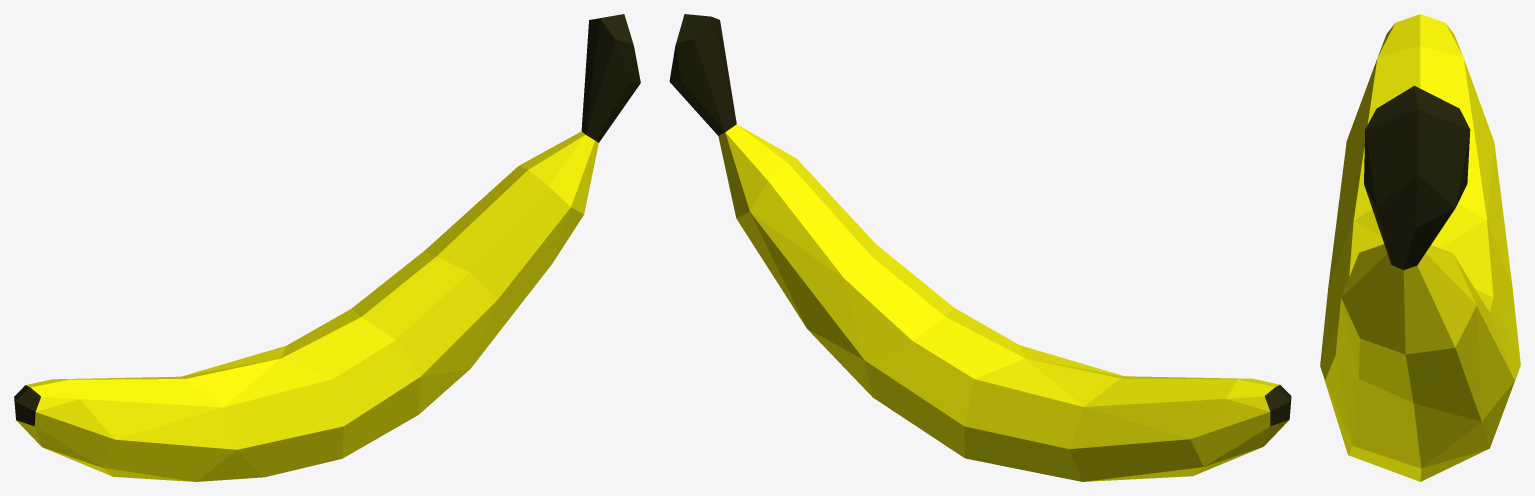
The model's file is foodbanana.glb.
The picture shows the model from 3 angles, left to right: view 1: azimuth 30°, elevation 25°; view 2: azimuth 150°, elevation 25°; view 3: azimuth 270°, elevation 25°; orthographic projection. The views are drawn at different scales.
Parts seen in each view (by area): view 1: Cube.002; view 2: Cube.002; view 3: Cube.002.
Part boxes in pixels (<box>): Cube.002: <box>14,14,640,481</box>; Cube.002: <box>669,14,1291,481</box>; Cube.002: <box>1320,14,1520,481</box>.
Bounding box in the file's own units: 2.34 × 1.34 × 0.4148.
